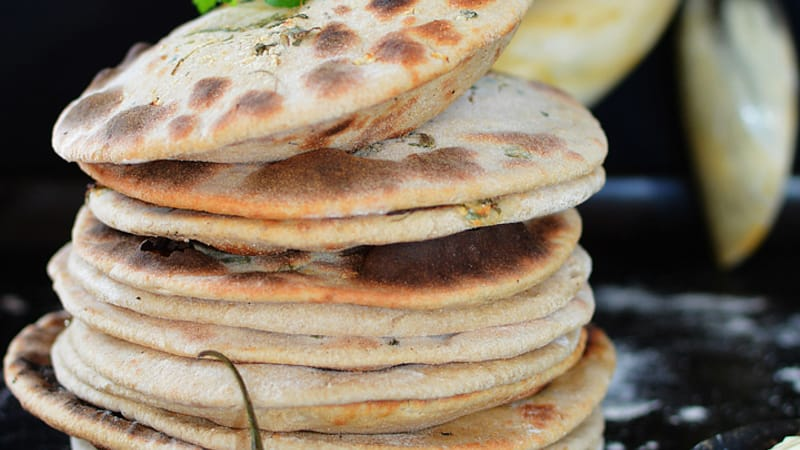Farata: (59, 5, 647, 433)
